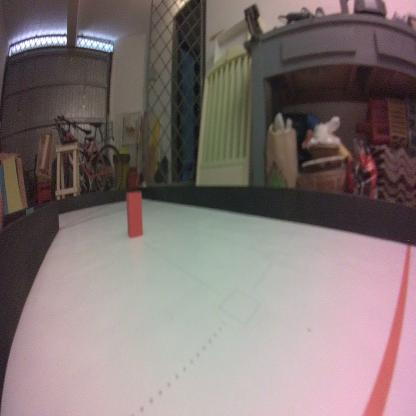red: (124, 189, 144, 244)
